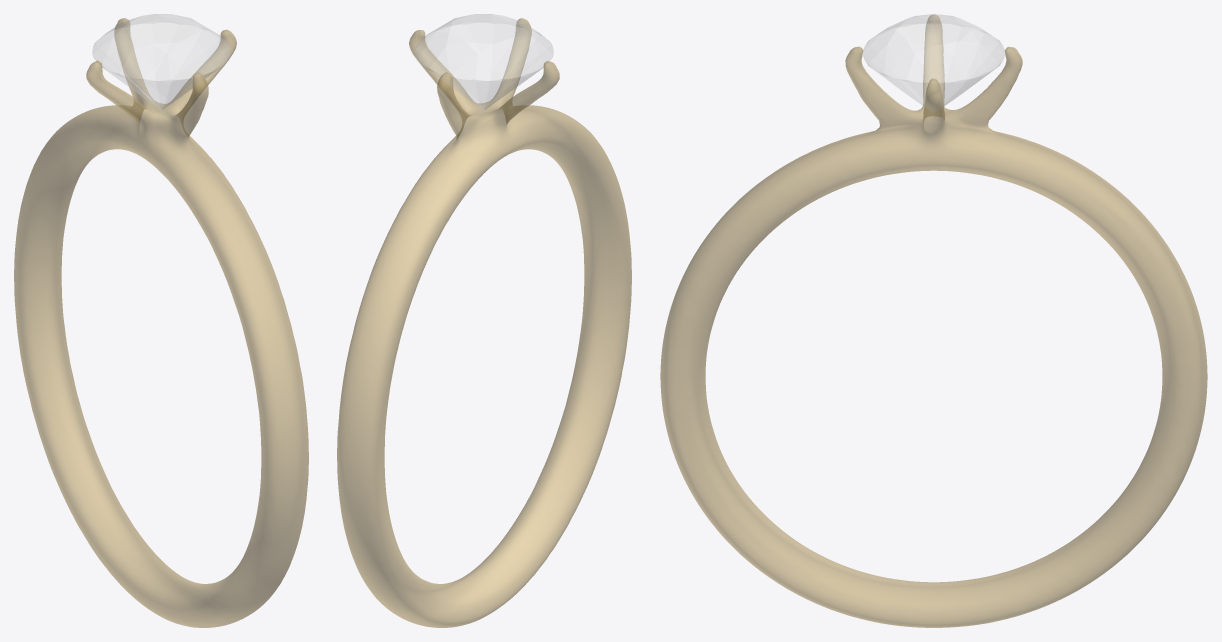
The picture shows the model from 3 angles, left to right: view 1: azimuth 30°, elevation 25°; view 2: azimuth 150°, elevation 25°; view 3: azimuth 270°, elevation 25°; orthographic projection. The views are drawn at different scales.
Visible parts, largest first — view 1: Ring, Diamond; view 2: Ring, Diamond; view 3: Ring, Diamond.
Part boxes in pixels (<box>): Ring: <box>14,18,308,627</box>; Diamond: <box>92,14,230,109</box>; Ring: <box>337,18,631,627</box>; Diamond: <box>415,14,553,109</box>; Ring: <box>660,15,1207,627</box>; Diamond: <box>863,14,1004,111</box>.
Bounding box in the file's own units: 0.7584 × 2.82 × 2.35.
